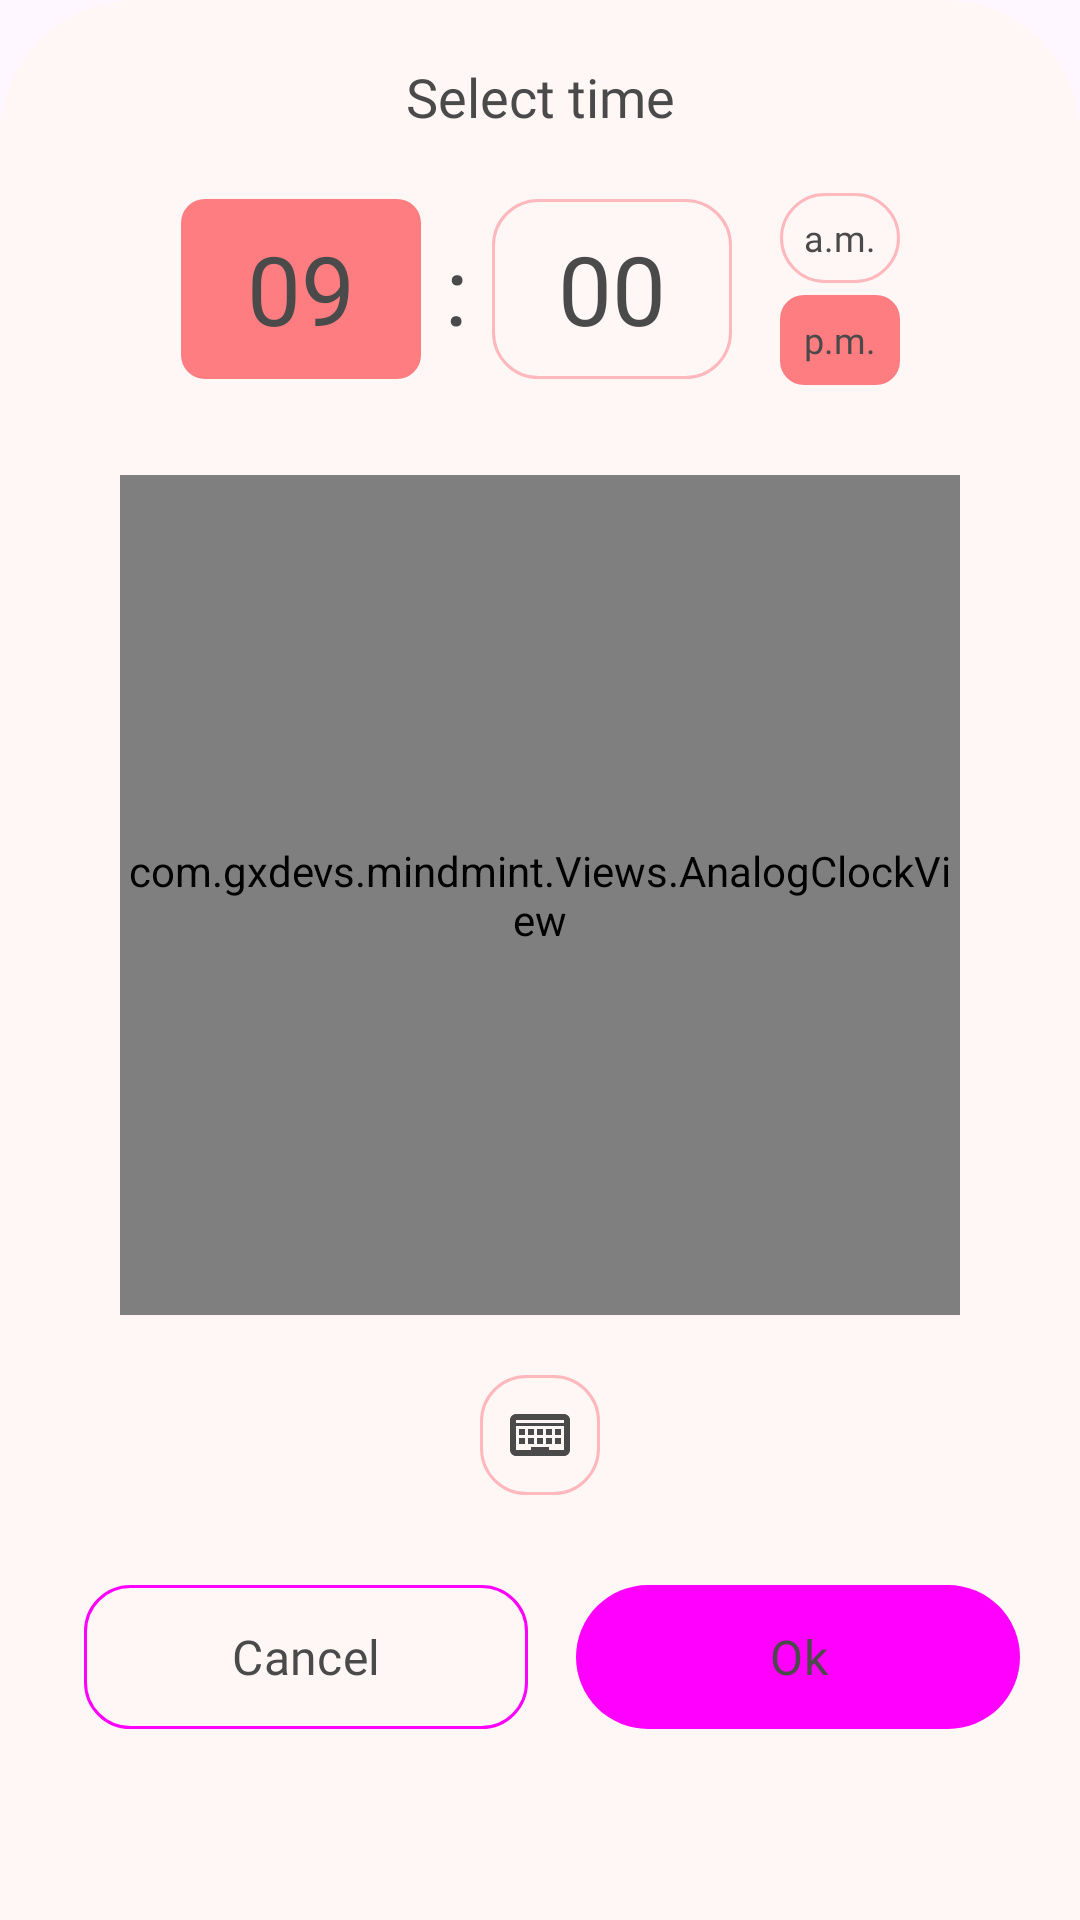

Icons on this 1080*1920 Android screen, each with its box as (x1, y1, x2, y2):
keyboard: (480, 1375, 600, 1495)
